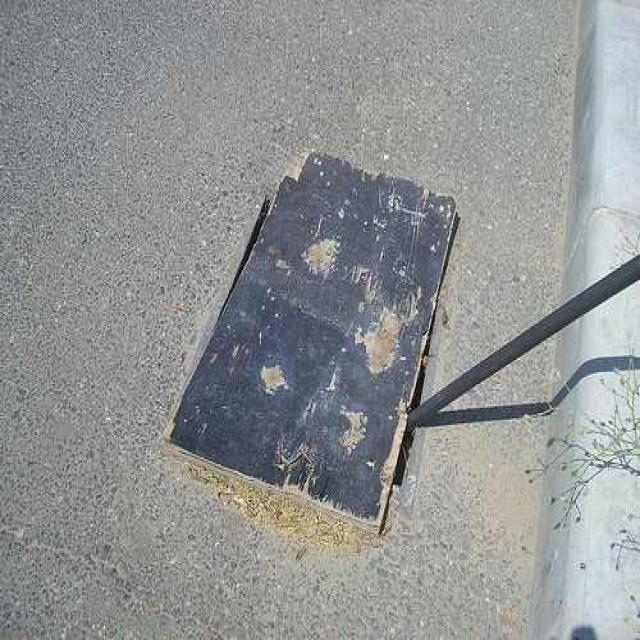manhole: (170, 153, 455, 529)
